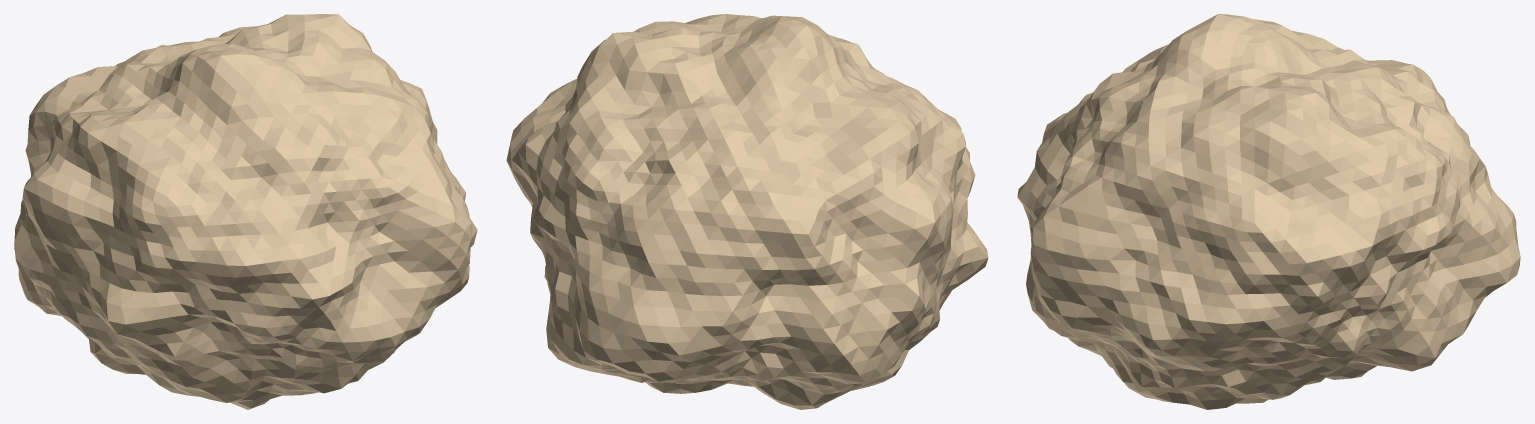
File: kraft_paper.glb
The picture shows the model from 3 angles, left to right: view 1: azimuth 30°, elevation 25°; view 2: azimuth 150°, elevation 25°; view 3: azimuth 270°, elevation 25°; orthographic projection. The views are drawn at different scales.
Visible parts, largest first — view 1: kraft_paper_ball; view 2: kraft_paper_ball; view 3: kraft_paper_ball.
Part boxes in pixels (x1,y1,x2,y2): kraft_paper_ball: (14, 14, 477, 409); kraft_paper_ball: (506, 14, 988, 409); kraft_paper_ball: (1017, 14, 1520, 409).
Bounding box in the file's own units: 0.0968 × 0.0803 × 0.1025.
